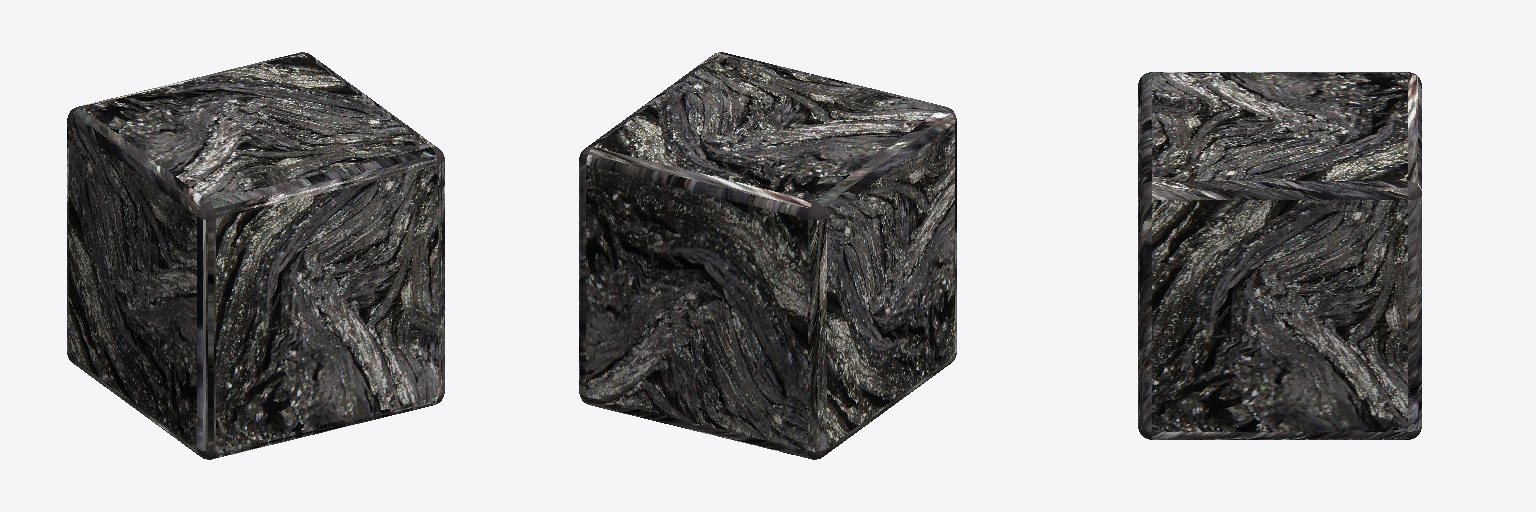
3 renders of one model, left to right at view 1: azimuth 30°, elevation 25°; view 2: azimuth 150°, elevation 25°; view 3: azimuth 270°, elevation 25°, orthographic.
Parts seen in each view (by area): view 1: Cube; view 2: Cube; view 3: Cube.
Boxes of the visible parts, x1=… form: Cube: x1=67, y1=52, x2=444, y2=459; Cube: x1=579, y1=52, x2=956, y2=459; Cube: x1=1138, y1=72, x2=1421, y2=439.
Bounding box in the file's own units: 2 × 2 × 2.
1 materials, 1 textured.